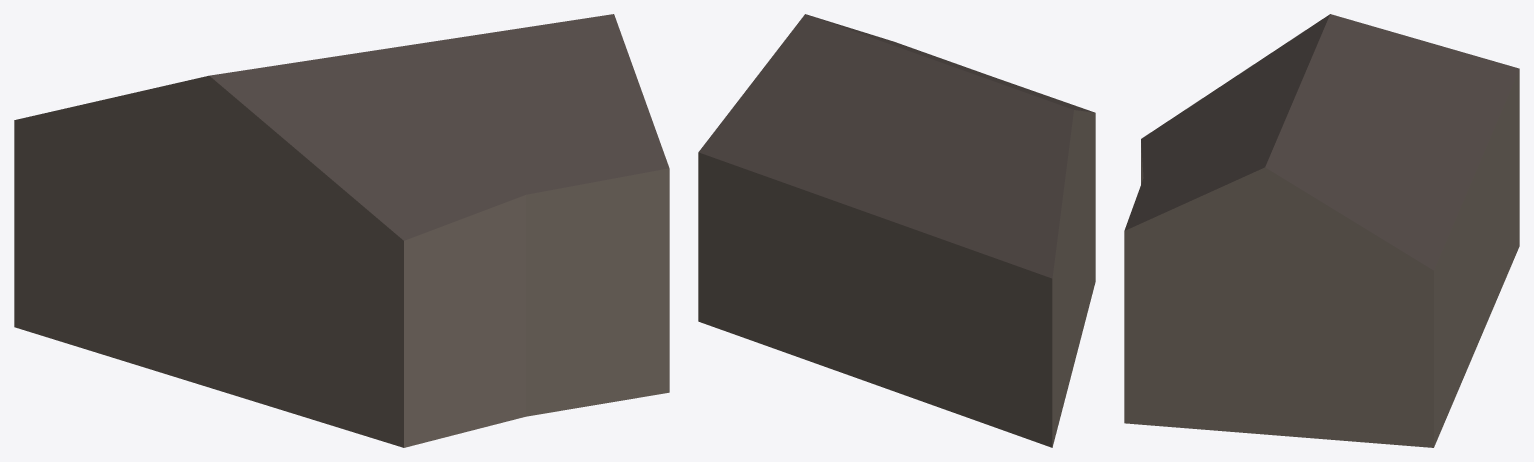
The picture shows the model from 3 angles, left to right: view 1: azimuth 30°, elevation 25°; view 2: azimuth 150°, elevation 25°; view 3: azimuth 270°, elevation 25°; orthographic projection. The views are drawn at different scales.
Parts seen in each view (by area): view 1: HP-w859082487; view 2: HP-w859082487; view 3: HP-w859082487.
Part boxes in pixels (x1,y1,x2,y2): HP-w859082487: [14, 14, 669, 447]; HP-w859082487: [698, 14, 1095, 447]; HP-w859082487: [1124, 14, 1519, 447].
Bounding box in the file's own units: 21.97 × 13.56 × 18.18.
